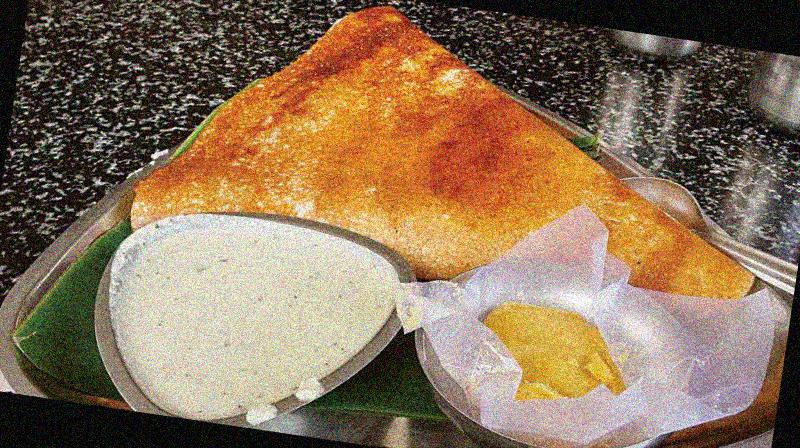dosa: (131, 3, 758, 296)
